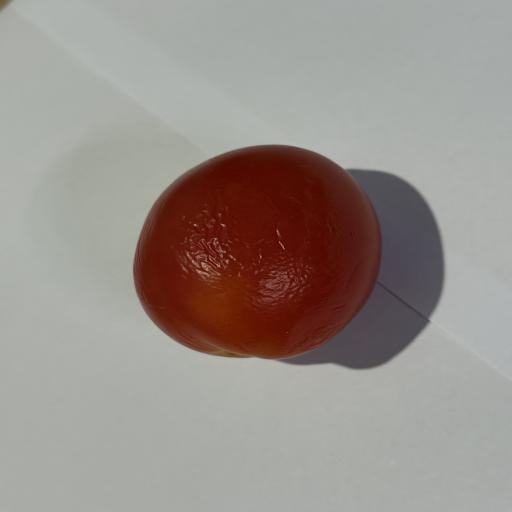spoiled: (134, 145, 381, 359)
